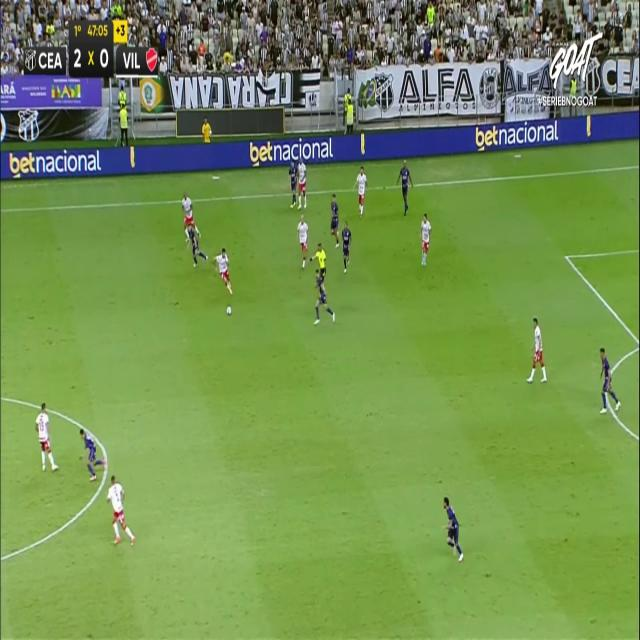ball: (225, 306, 233, 319)
player: (106, 474, 136, 546), (35, 402, 59, 471), (79, 427, 107, 481), (599, 347, 621, 413), (526, 317, 547, 383), (443, 495, 464, 561), (313, 268, 335, 325), (179, 191, 203, 240), (184, 223, 208, 267), (396, 158, 413, 215), (213, 247, 233, 295), (296, 214, 308, 269), (420, 212, 431, 266), (356, 165, 367, 217), (296, 156, 306, 210), (341, 219, 351, 273), (330, 193, 339, 247), (290, 163, 300, 207)
referee: (314, 239, 330, 293)
